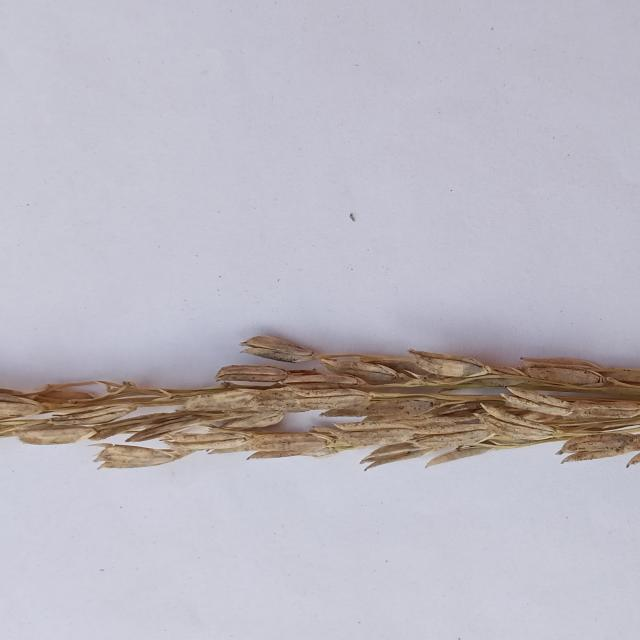Neck_Blast: (0, 328, 634, 475)
